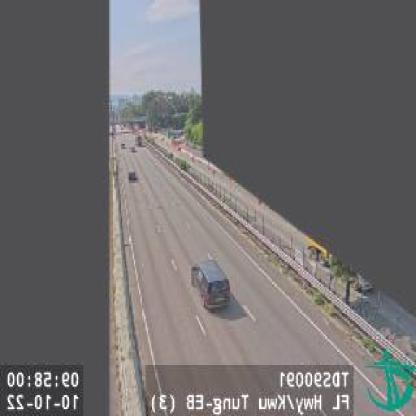Car: (192, 256, 232, 309), (128, 168, 138, 180)
